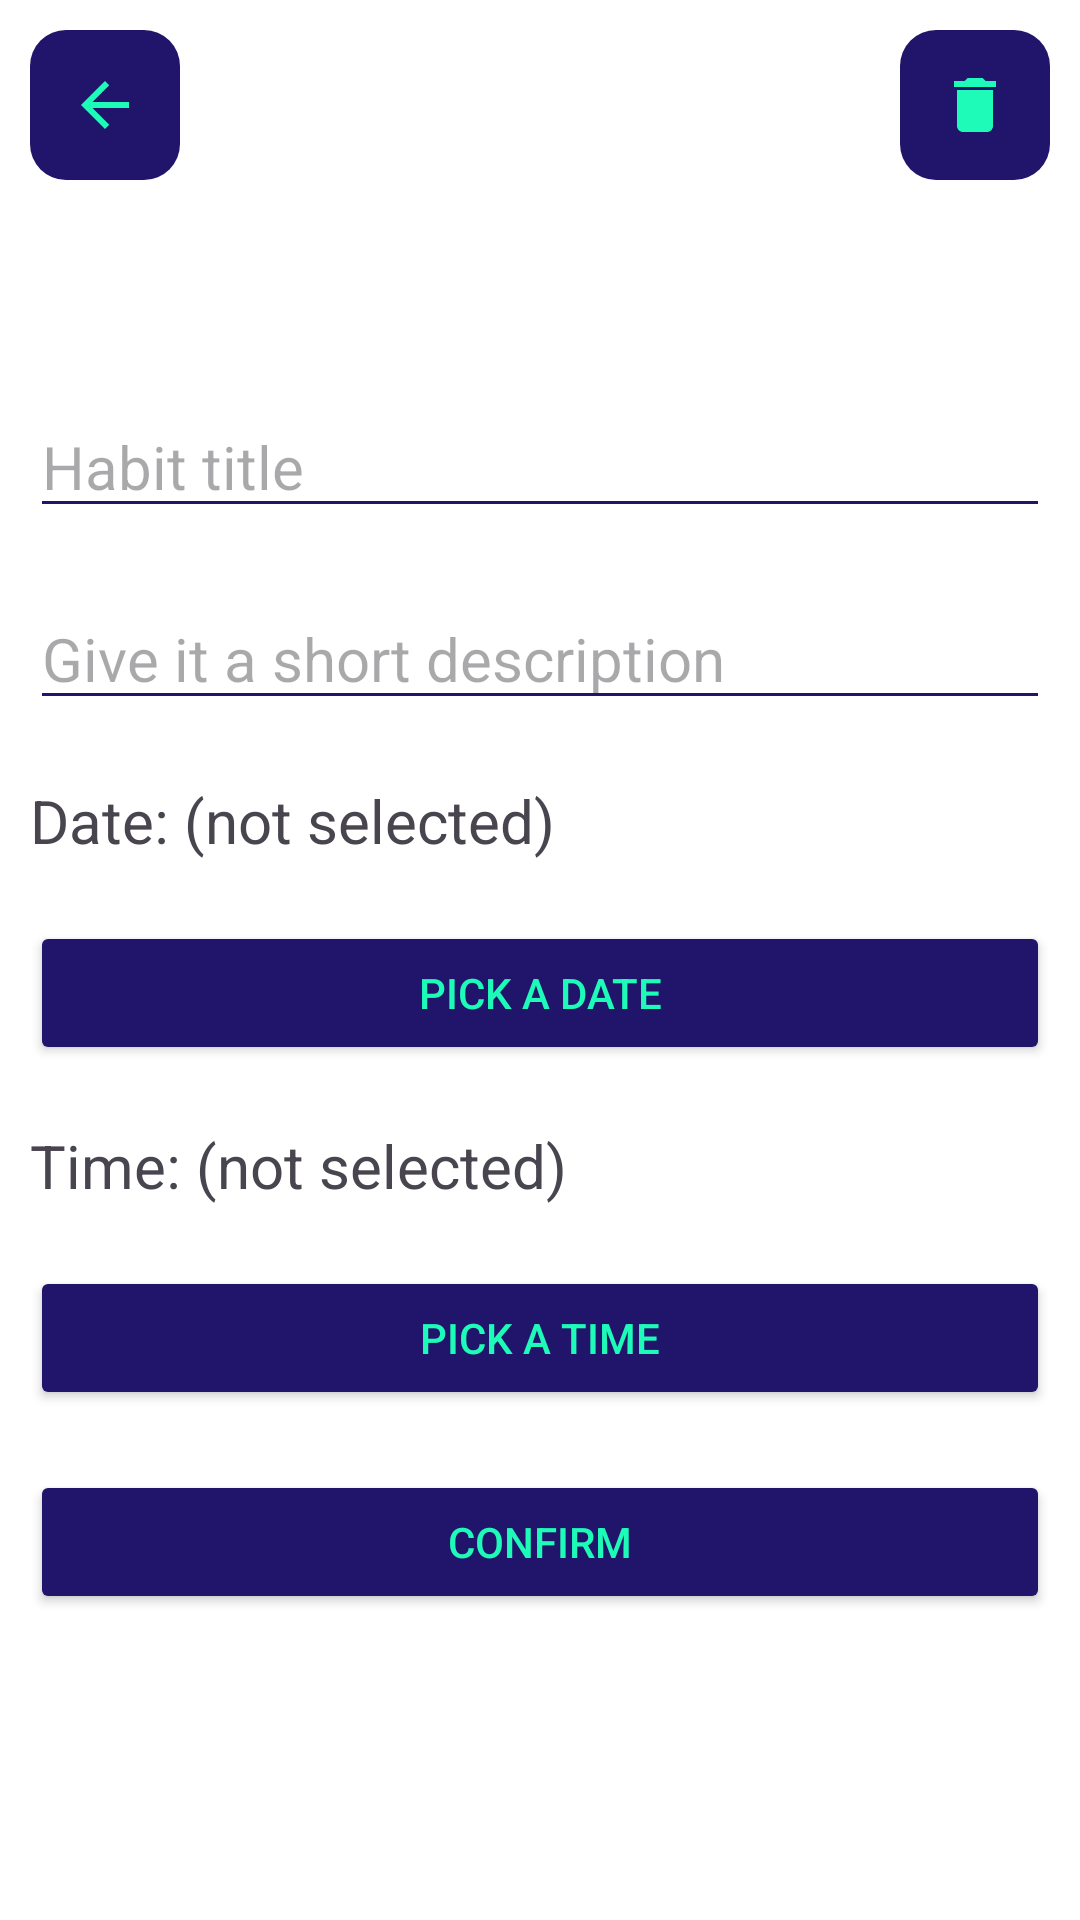

Point at icon controls on the screen. Image size 1080px x 1920px, points as [x,y].
Back: [105,105]
Delete Habit: [975,105]
